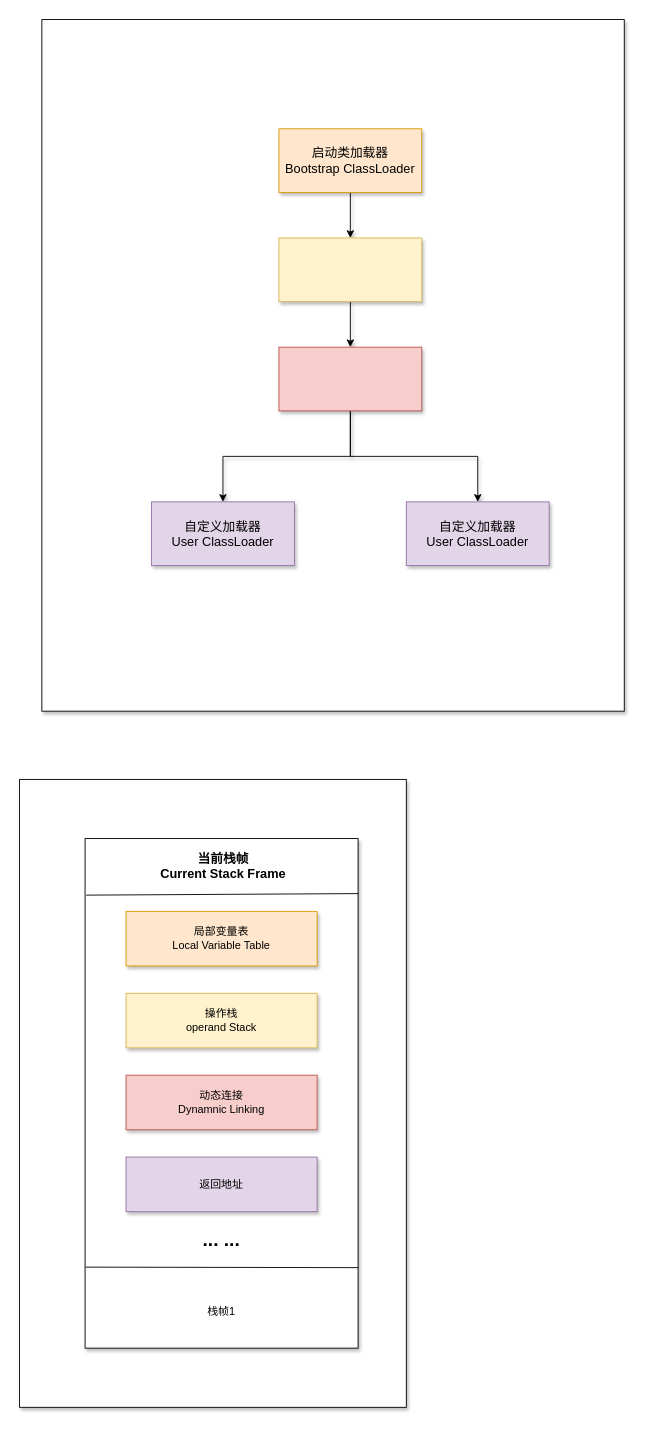
The diagram is 646 pixels wide and 1430 high, and some of its shapes have lost their labels. Each missing label, with the centre of its shape:
应用程序类加载器 Application ClassLoader: the point at 350,380
扩展类加载器 Extension ClassLoader: the point at 350,270
